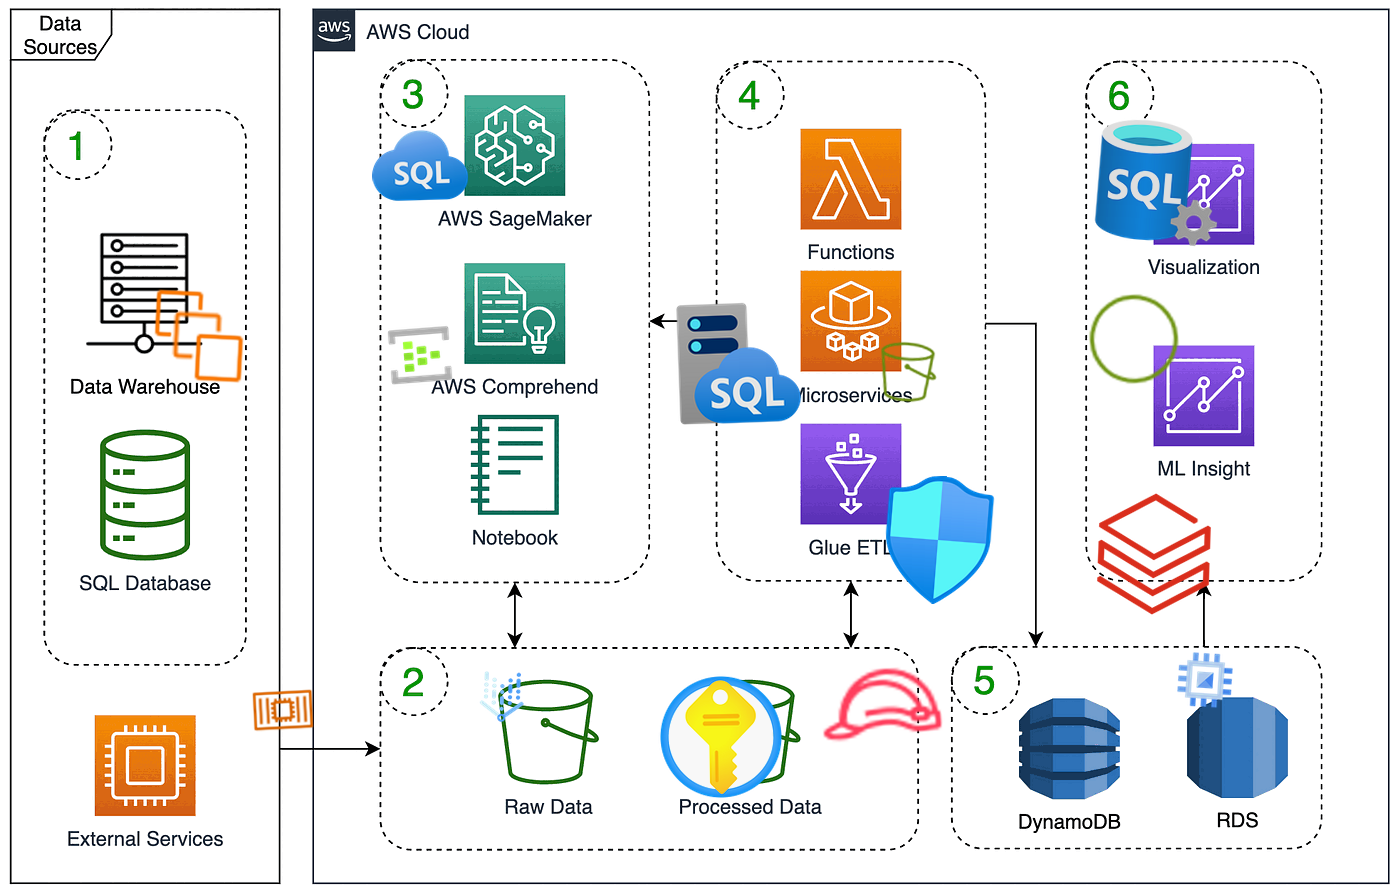aws_ec2_instances: (148, 285, 250, 387)
aws_elastic_container_service_container_2: (249, 676, 317, 744)
aws_identity_access_management_role: (813, 636, 949, 772)
aws_simple_storage_service_object: (1083, 288, 1185, 390)
aws_simple_storage_service_s3_standard: (873, 337, 943, 407)
azure_databricks: (1087, 487, 1221, 620)
azure_event_hubs: (385, 320, 455, 390)
azure_key_vaults: (655, 670, 787, 803)
azure_network_security_groups: (869, 471, 1007, 609)
azure_sql: (370, 117, 470, 217)
azure_sql_managed_instance: (672, 296, 806, 430)
azure_sql_server: (1089, 112, 1229, 252)
gcp_compute_engine: (1170, 645, 1240, 715)
gcp_vertex_ai: (468, 663, 536, 731)
